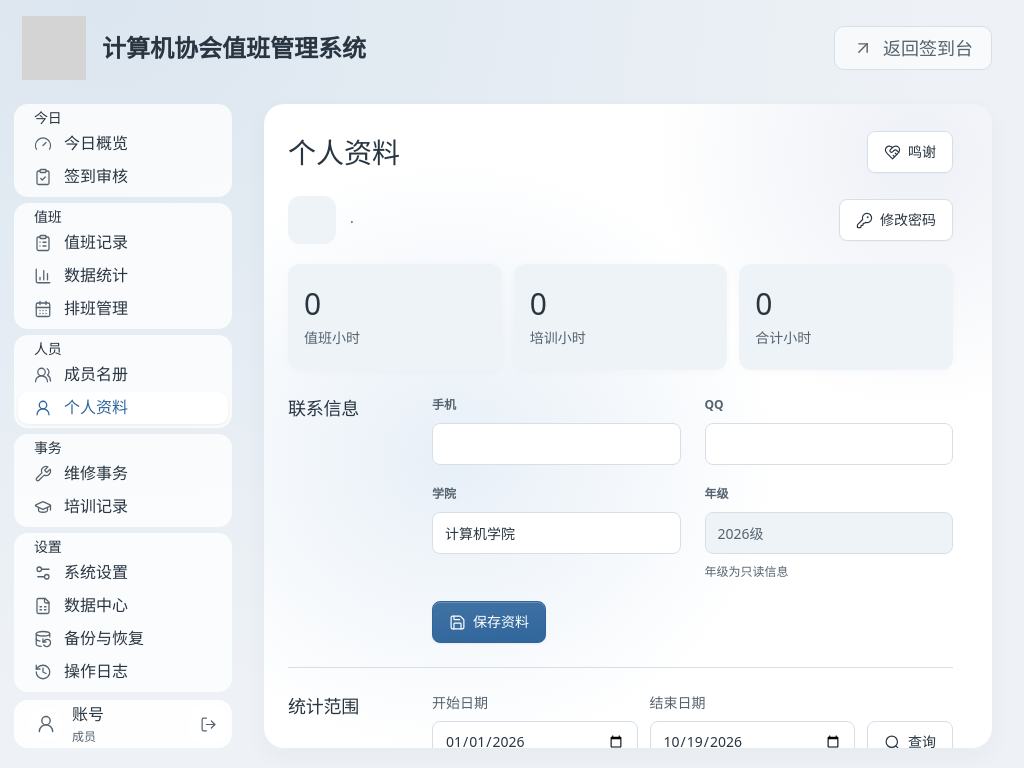
Scenario: ProfilePage request states › rejects an inverted record date range before requesting data
Type "2026-08-22" into the date field labelled "开始日期". click: (535, 742)
box: [432, 721, 638, 763]
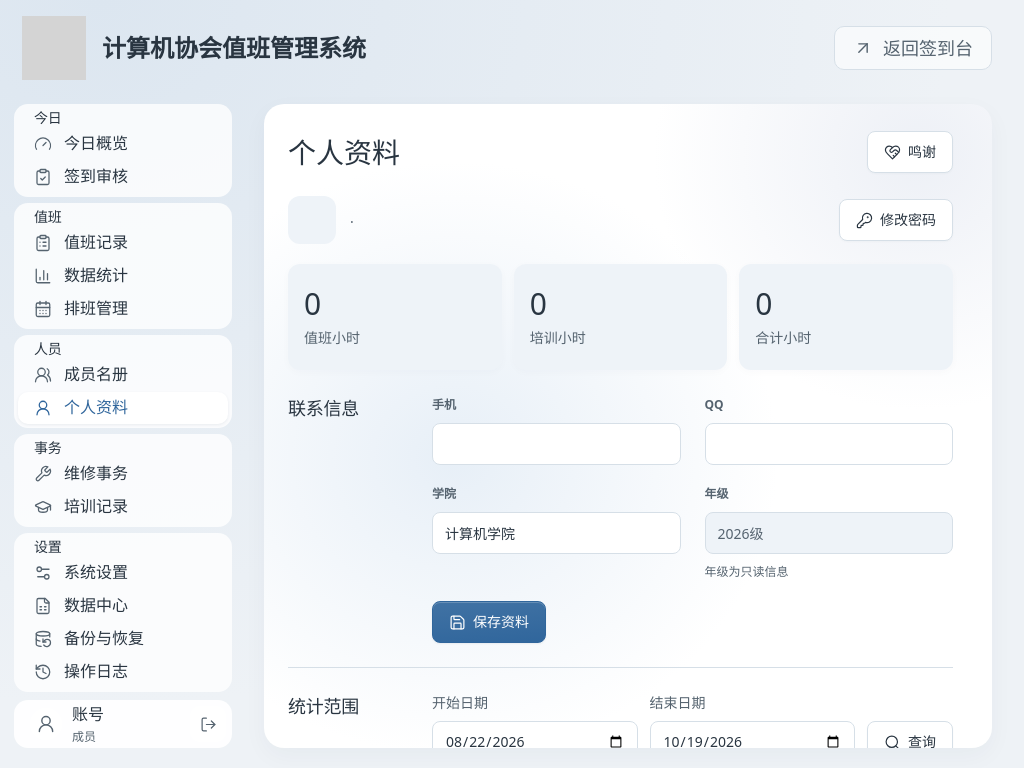
Type "2026-08-21" into the date field labelled "结束日期". click: (752, 742)
box: [650, 721, 855, 763]
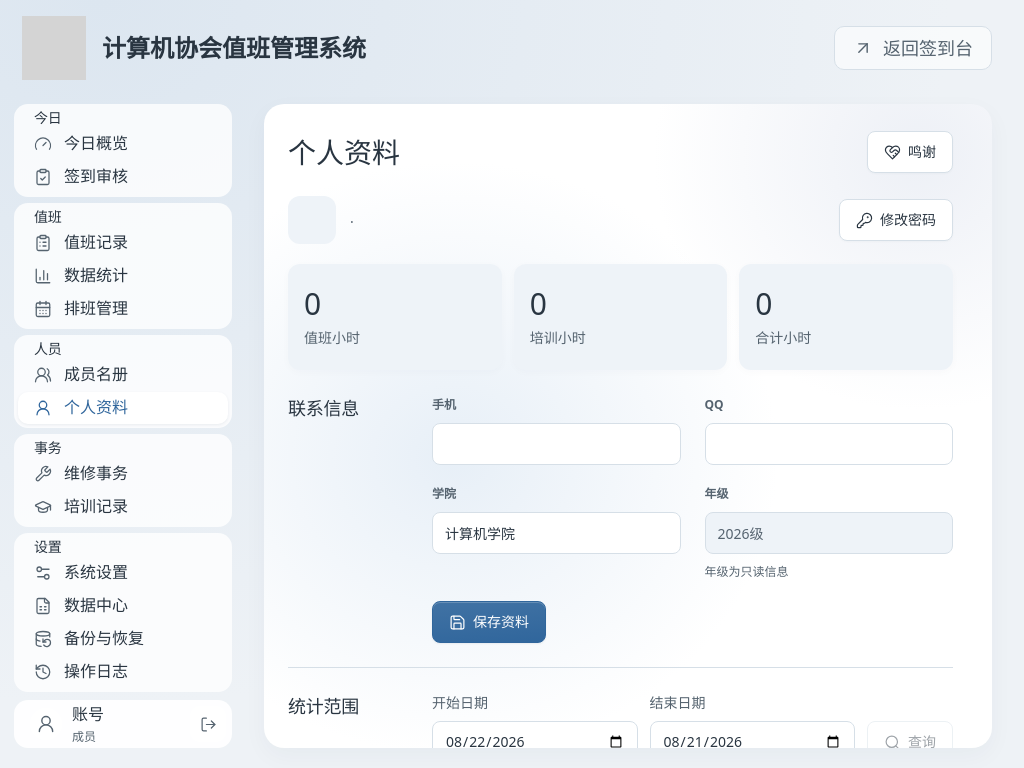
Submit the form "开始日期 结束日期 查询", box [432, 692, 953, 763]
(page scrolled)
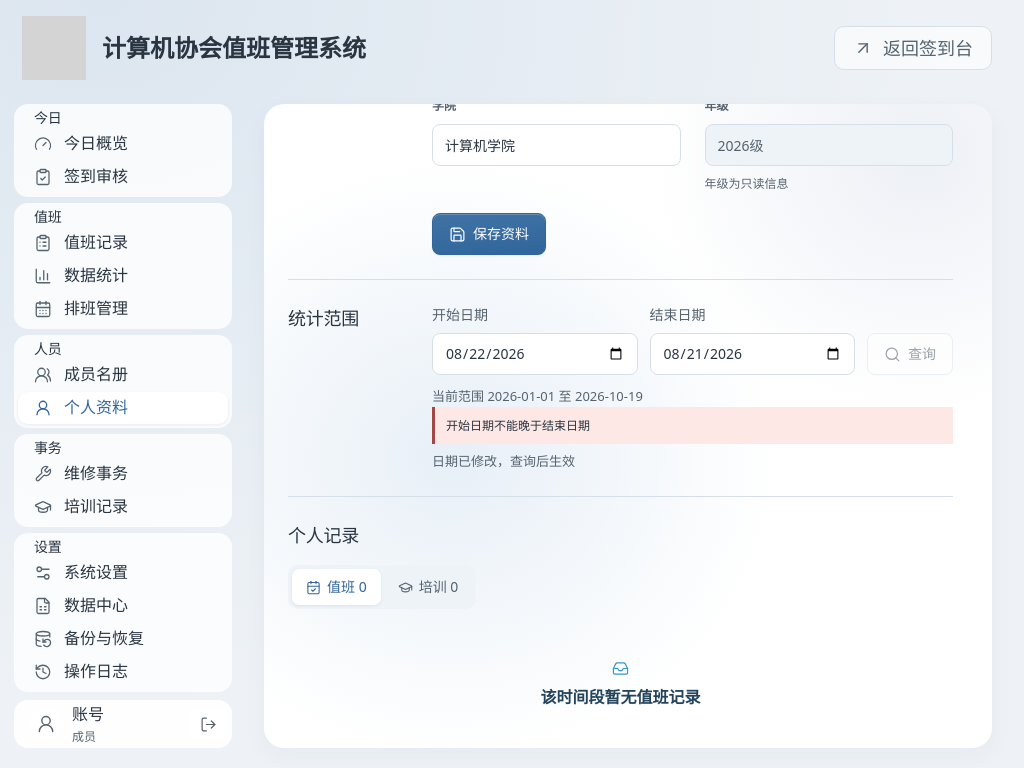
Expected: the message "开始日期不能晚于结束日期" is shown, [432, 407, 953, 444]
